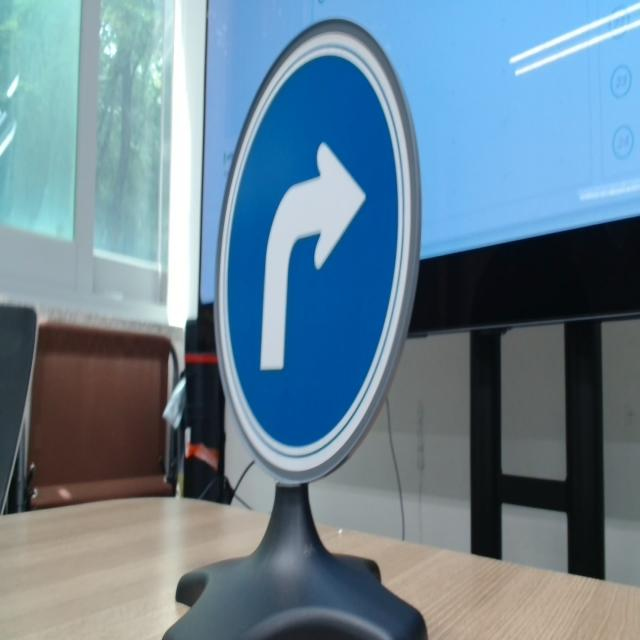right_dierection: (218, 12, 428, 490)
